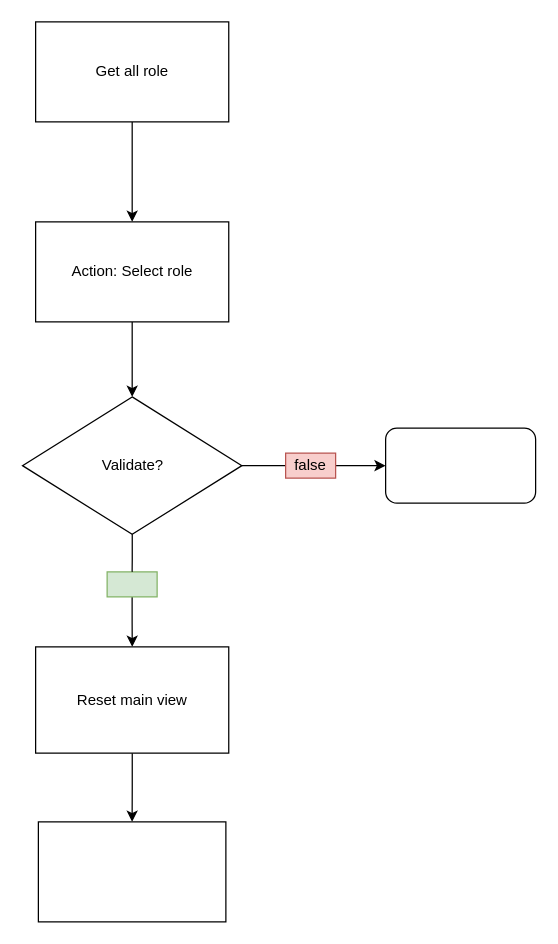
The diagram is 558 pixels wide and 944 high, and some of its shapes have lost their labels. The shapes that lost their labels are listed below. From the top down, each one's box as (x1, y1, x2, y2) in pixels, then its label:
(384, 427, 536, 503): Message error
(106, 571, 157, 597): true
(37, 821, 226, 922): Quay lại màn hình chính
